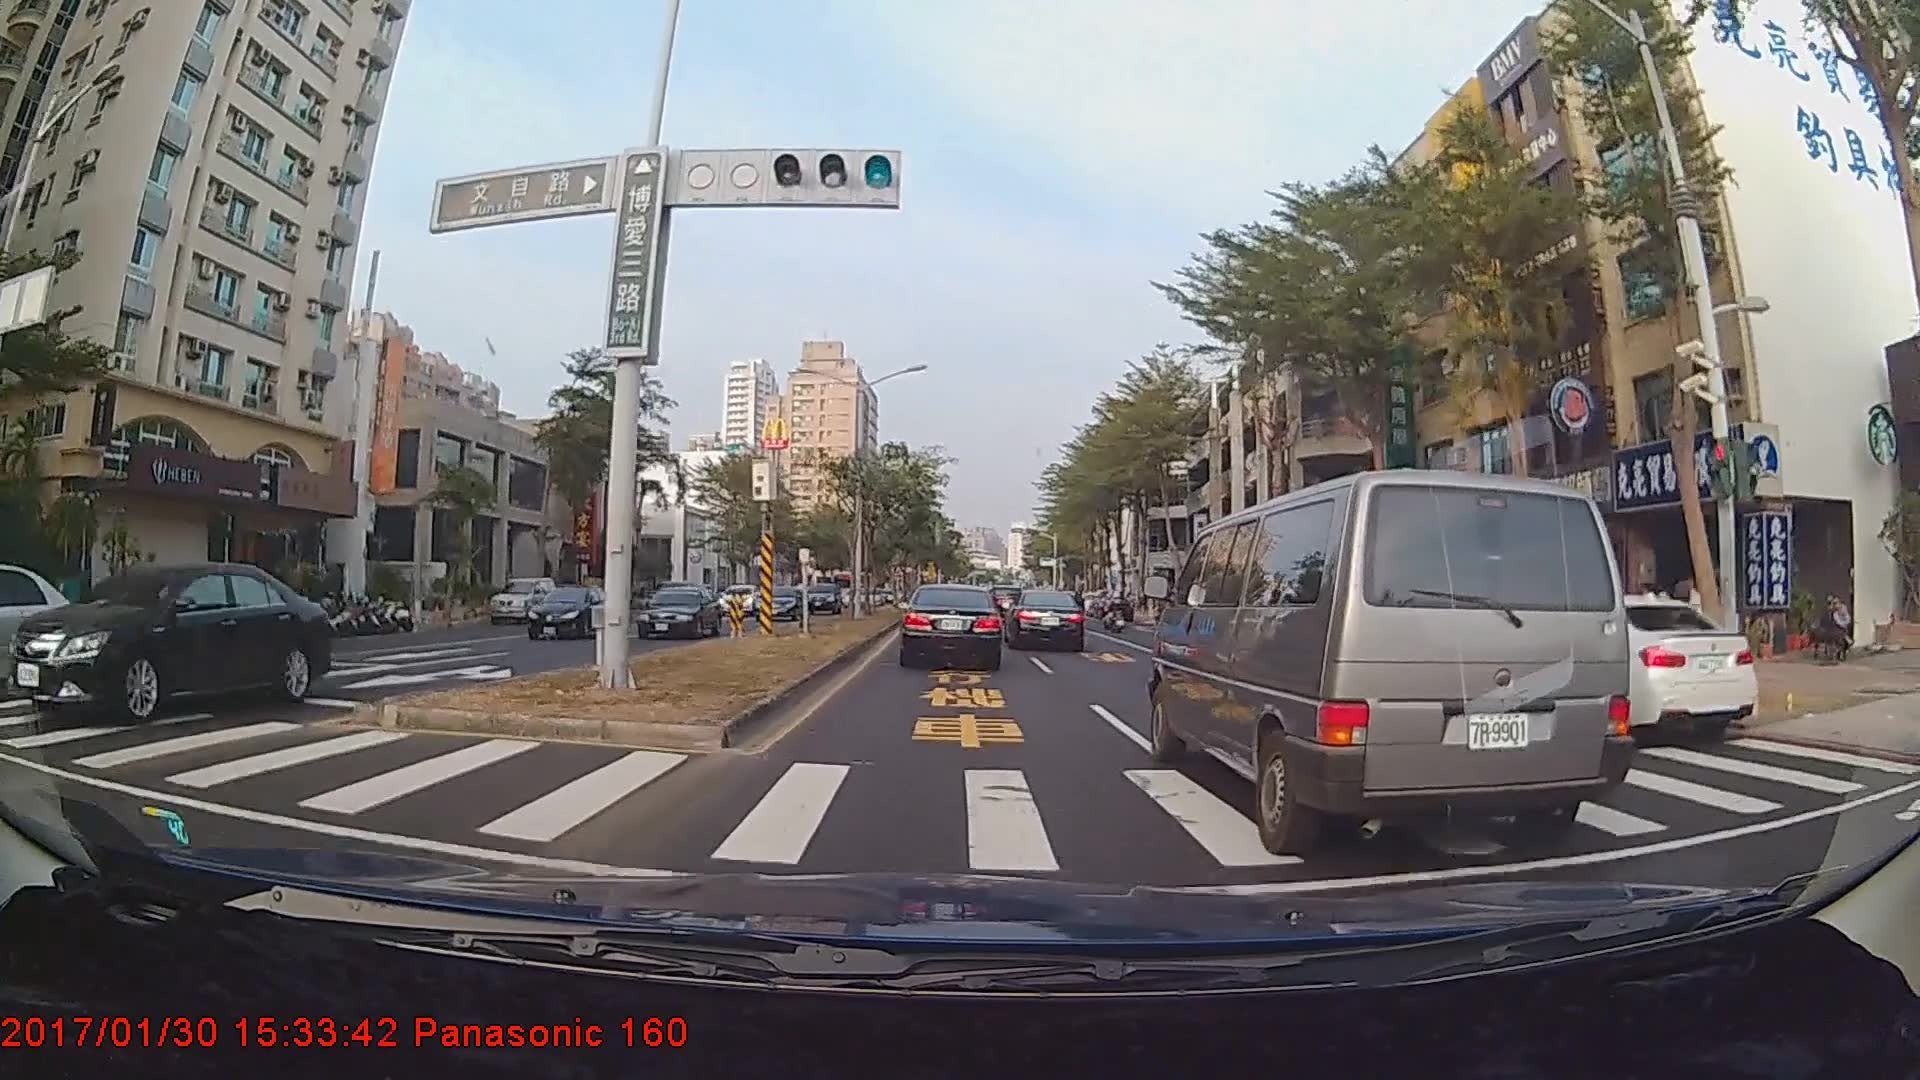vehicle: (1154, 459, 1639, 851), (3, 562, 332, 723), (1375, 542, 1629, 709), (0, 560, 84, 703), (899, 585, 1004, 670), (525, 582, 615, 641), (1004, 589, 1085, 651), (634, 584, 720, 636), (487, 575, 559, 622), (753, 585, 802, 621), (800, 578, 841, 611)
